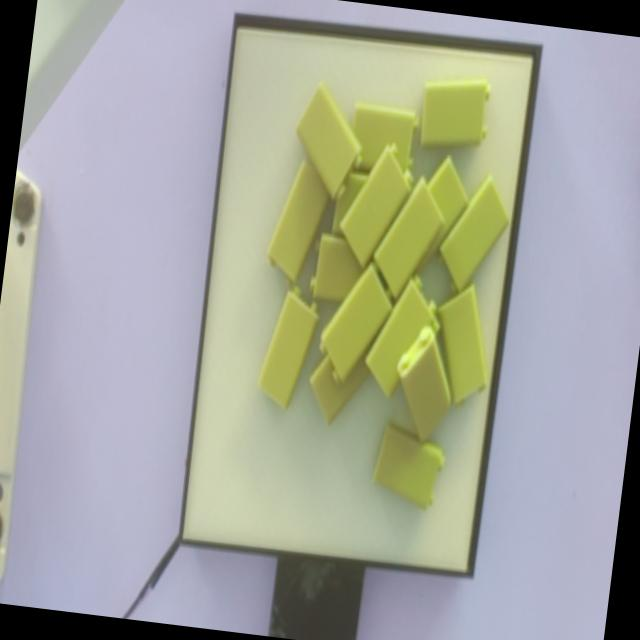bateria: (338, 144, 411, 266), (373, 177, 445, 299), (319, 261, 391, 383), (438, 177, 509, 293), (294, 84, 362, 202), (256, 286, 319, 411), (372, 424, 445, 512), (438, 284, 488, 410), (419, 79, 490, 148)
mesa: (177, 12, 542, 577)
